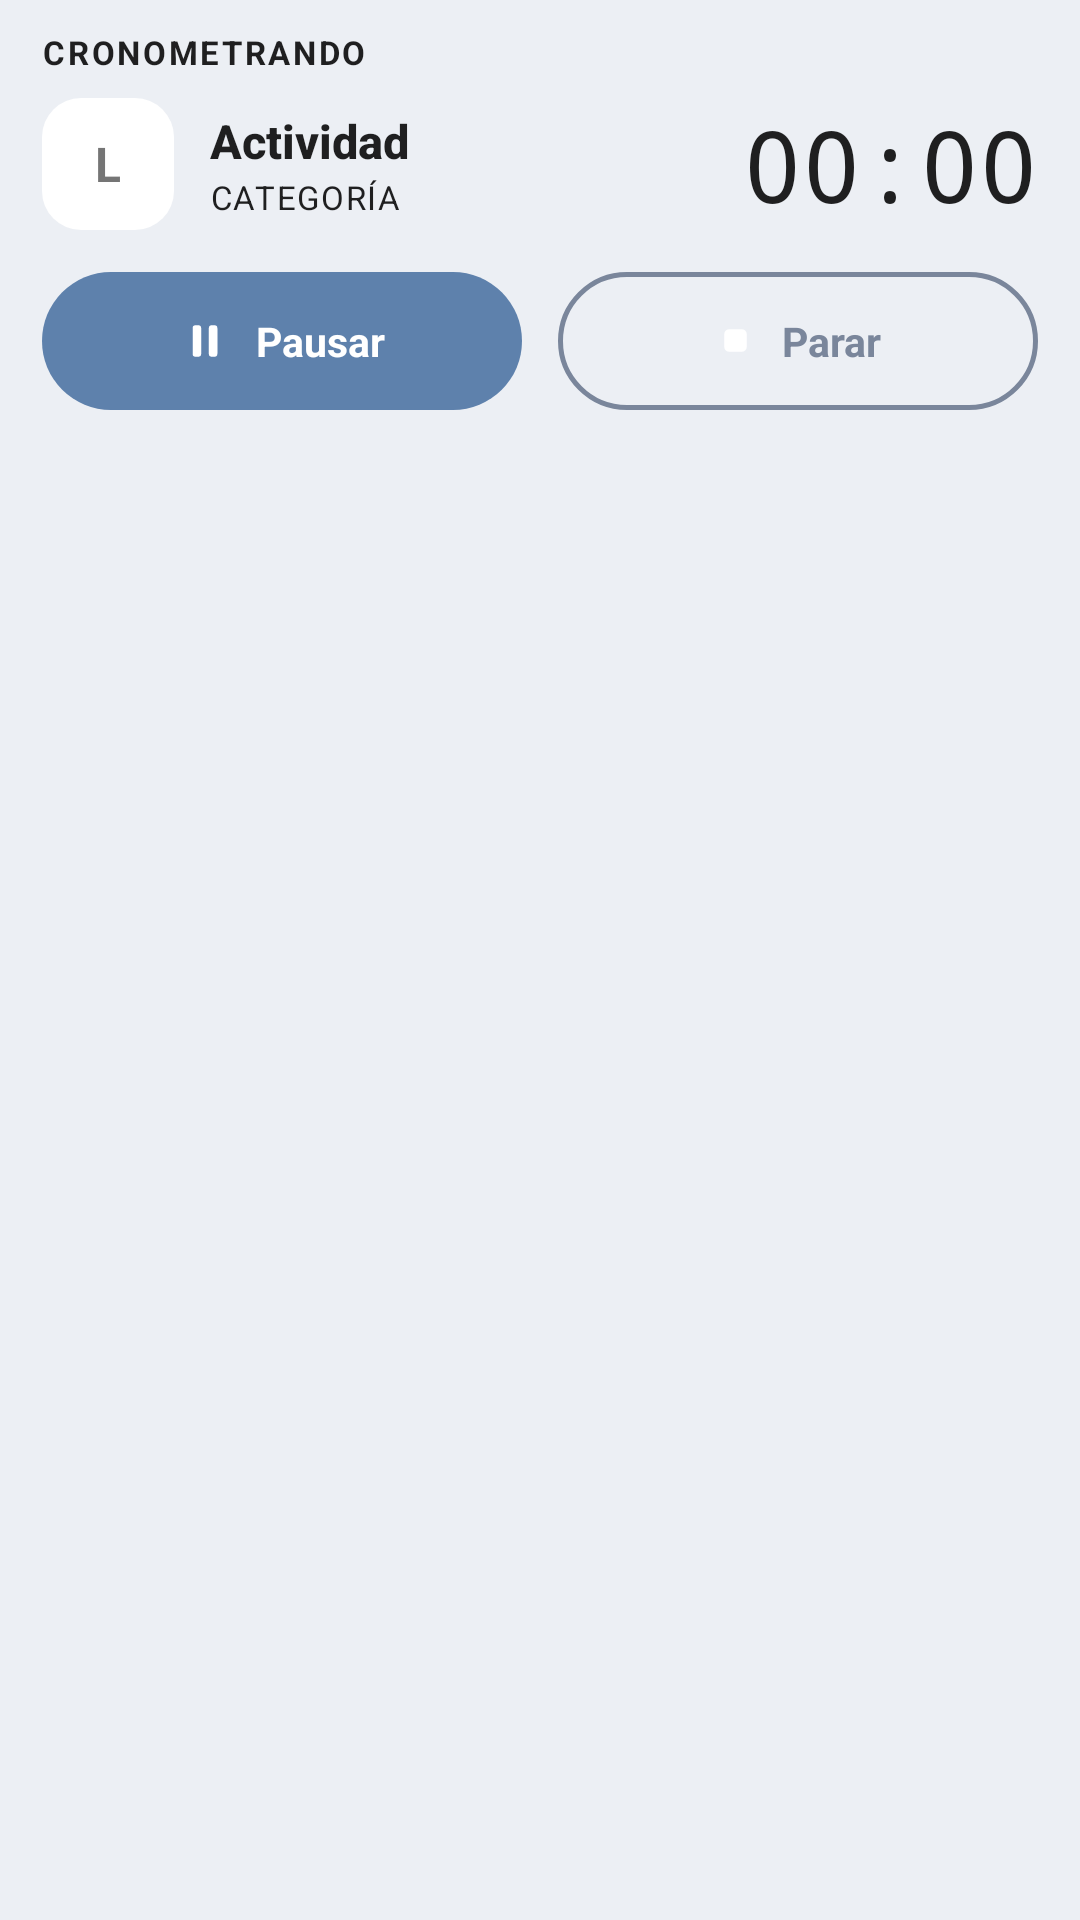

Where to tap for icons on this 1080px×1920px app screen, as [x,y]:
pause: [205,341]
